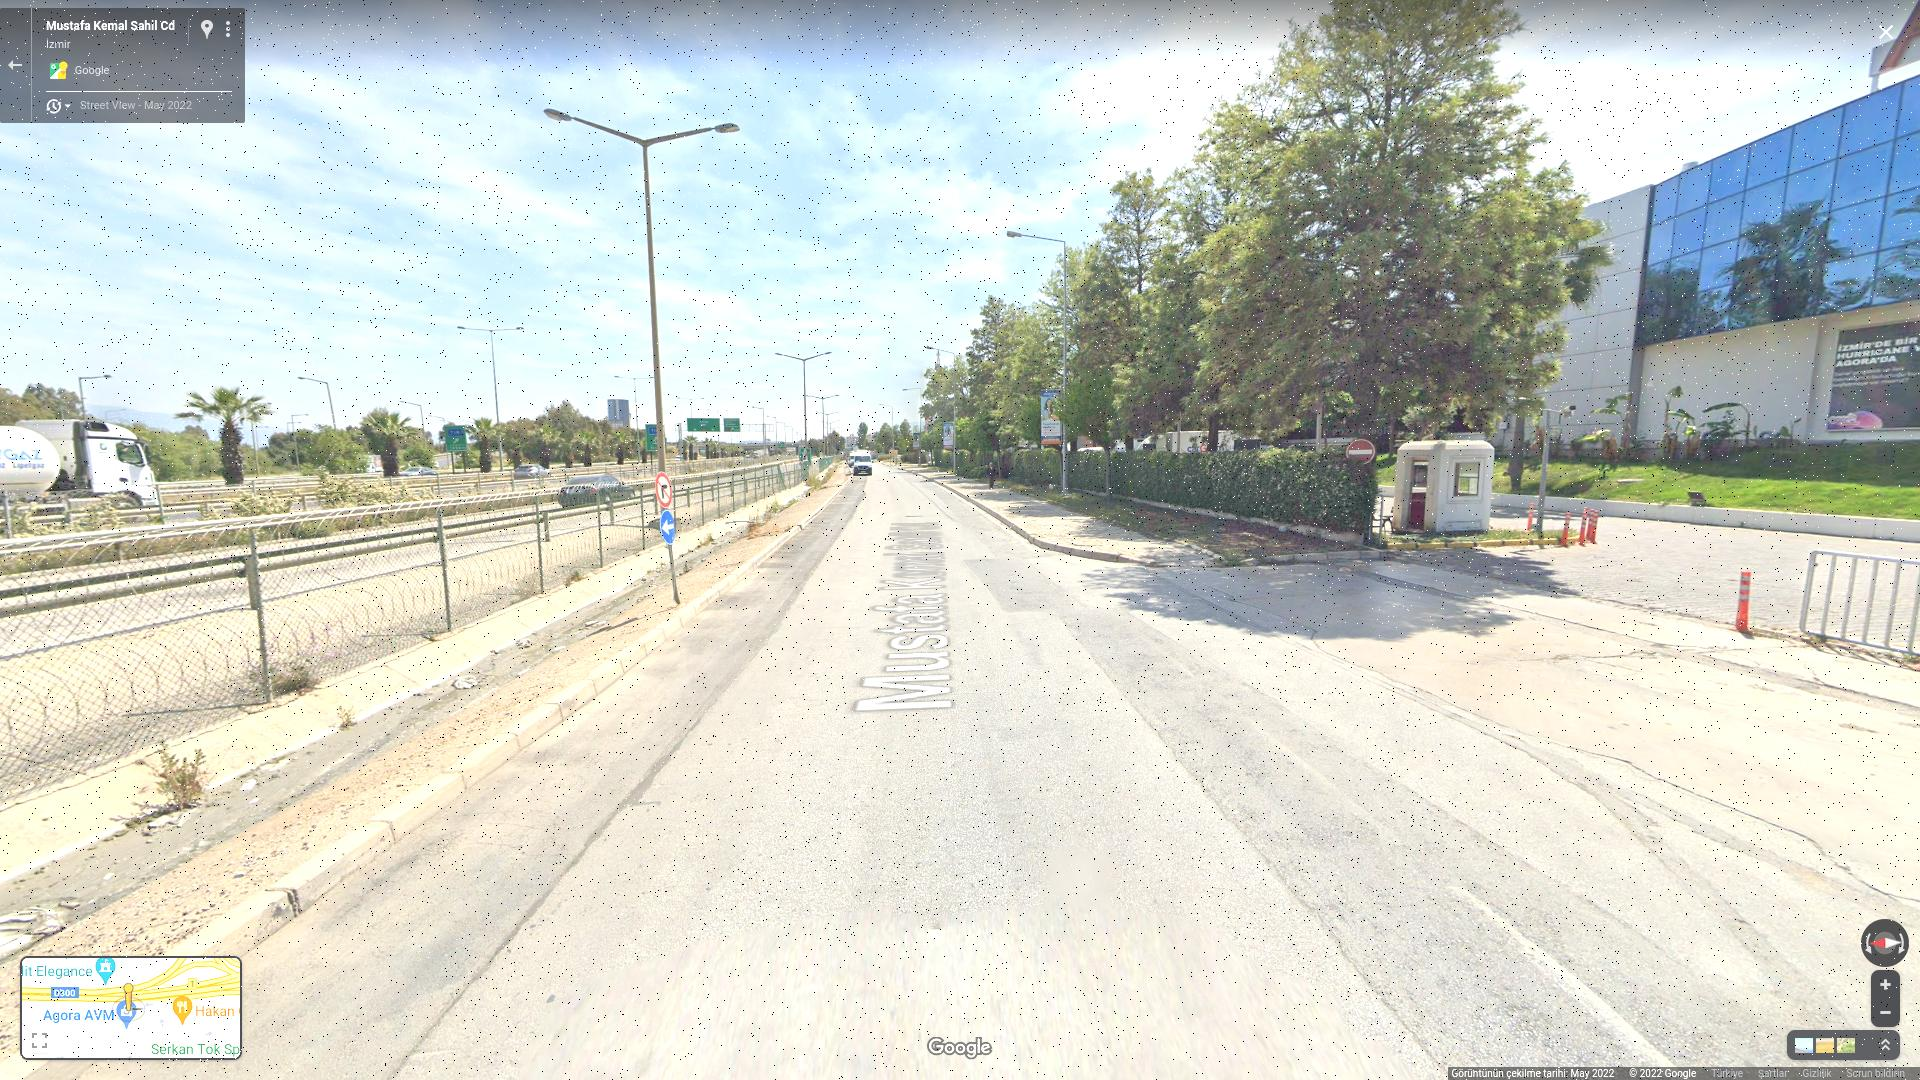rightturnsareforbidden: (657, 472, 673, 506)
turnleft: (659, 510, 676, 545)
